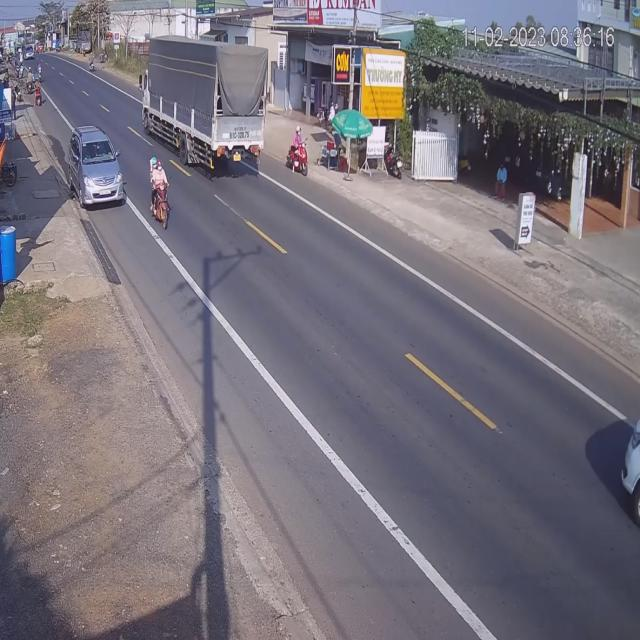car: (68, 125, 124, 208), (622, 415, 640, 532)
motorbike: (149, 160, 171, 232), (286, 129, 307, 175)
truck: (140, 44, 268, 182)
